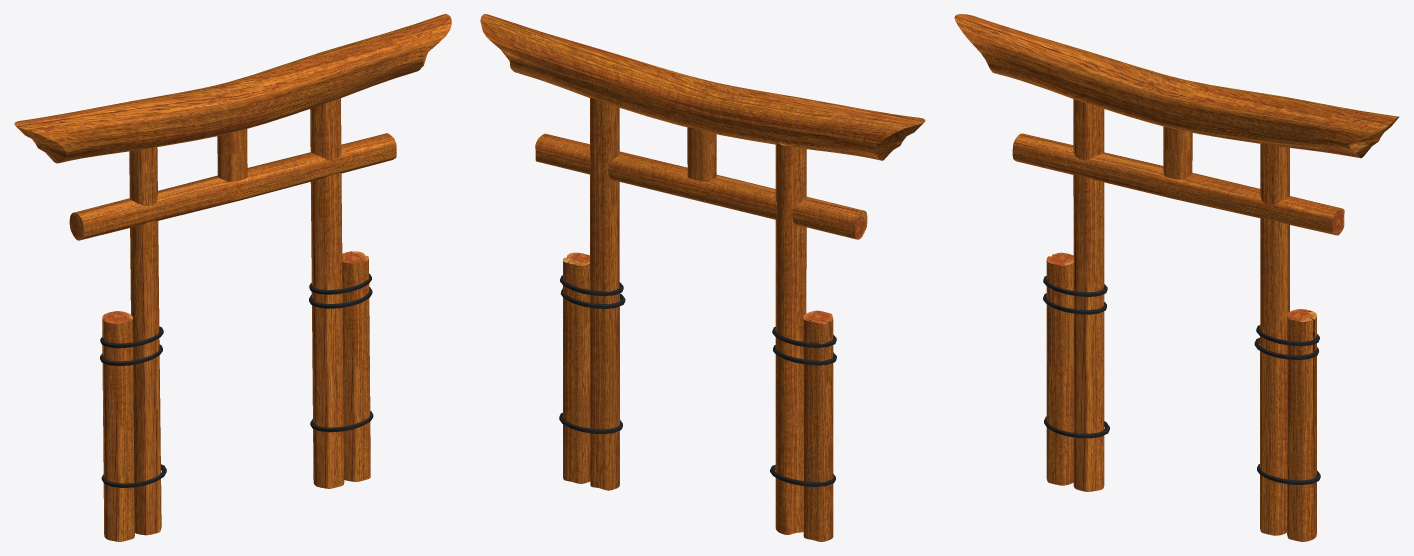
Rendered from OldTorii.obj.
3 renders of one model, left to right at view 1: azimuth 30°, elevation 25°; view 2: azimuth 150°, elevation 25°; view 3: azimuth 330°, elevation 25°, orthographic.
Visible parts, largest first — view 1: OldTorii_Shimaki, OldTorii_Hashira_4, OldTorii_Hashira_3, OldTorii_Nuki, OldTorii_Hashira_2, Hashira_1_OldTorii, OldTorii_Gakuzuka; view 2: OldTorii_Shimaki, OldTorii_Hashira_3, OldTorii_Hashira_4, OldTorii_Nuki, OldTorii_Hashira_2, Hashira_1_OldTorii, OldTorii_Gakuzuka; view 3: OldTorii_Shimaki, OldTorii_Hashira_3, OldTorii_Hashira_4, OldTorii_Nuki, Hashira_1_OldTorii, OldTorii_Hashira_2, OldTorii_Gakuzuka.
Part boxes in pixels (x1=…): OldTorii_Shimaki: x1=14, y1=14, x2=451, y2=163; OldTorii_Hashira_4: x1=310, y1=98, x2=344, y2=488; OldTorii_Hashira_3: x1=129, y1=147, x2=161, y2=535; OldTorii_Nuki: x1=69, y1=133, x2=396, y2=240; OldTorii_Hashira_2: x1=102, y1=311, x2=134, y2=541; Hashira_1_OldTorii: x1=342, y1=251, x2=370, y2=481; OldTorii_Gakuzuka: x1=217, y1=129, x2=247, y2=181; OldTorii_Shimaki: x1=480, y1=14, x2=925, y2=160; OldTorii_Hashira_3: x1=775, y1=143, x2=806, y2=534; OldTorii_Hashira_4: x1=590, y1=98, x2=619, y2=490; OldTorii_Nuki: x1=535, y1=133, x2=867, y2=239; OldTorii_Hashira_2: x1=803, y1=310, x2=833, y2=541; Hashira_1_OldTorii: x1=563, y1=252, x2=590, y2=483; OldTorii_Gakuzuka: x1=687, y1=127, x2=716, y2=181; OldTorii_Shimaki: x1=954, y1=14, x2=1399, y2=158; OldTorii_Hashira_3: x1=1073, y1=99, x2=1104, y2=491; OldTorii_Hashira_4: x1=1260, y1=143, x2=1289, y2=535; OldTorii_Nuki: x1=1012, y1=133, x2=1344, y2=235; Hashira_1_OldTorii: x1=1287, y1=309, x2=1316, y2=541; OldTorii_Hashira_2: x1=1046, y1=252, x2=1073, y2=485; OldTorii_Gakuzuka: x1=1163, y1=126, x2=1192, y2=179.
Bounding box in the file's own units: 15.25 × 14.64 × 1.54.
Materials: 3 (2 with a texture image).
